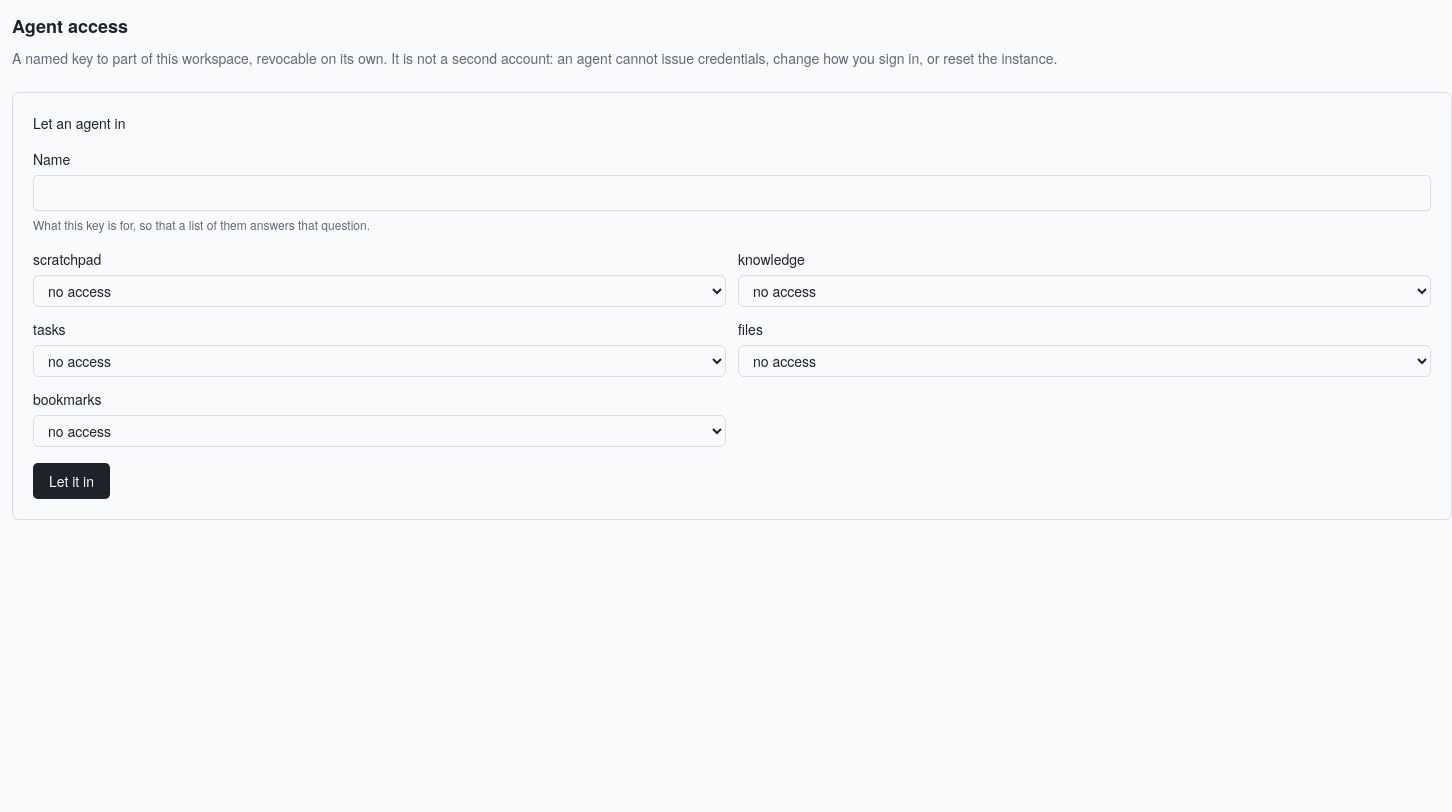
it: agent access › lets an agent in with a permission per application and shows the token once
Step 1. Type "the deploy agent" into the field labelled "Name" → (732, 193), box x1=33 y1=175 x2=1431 y2=211
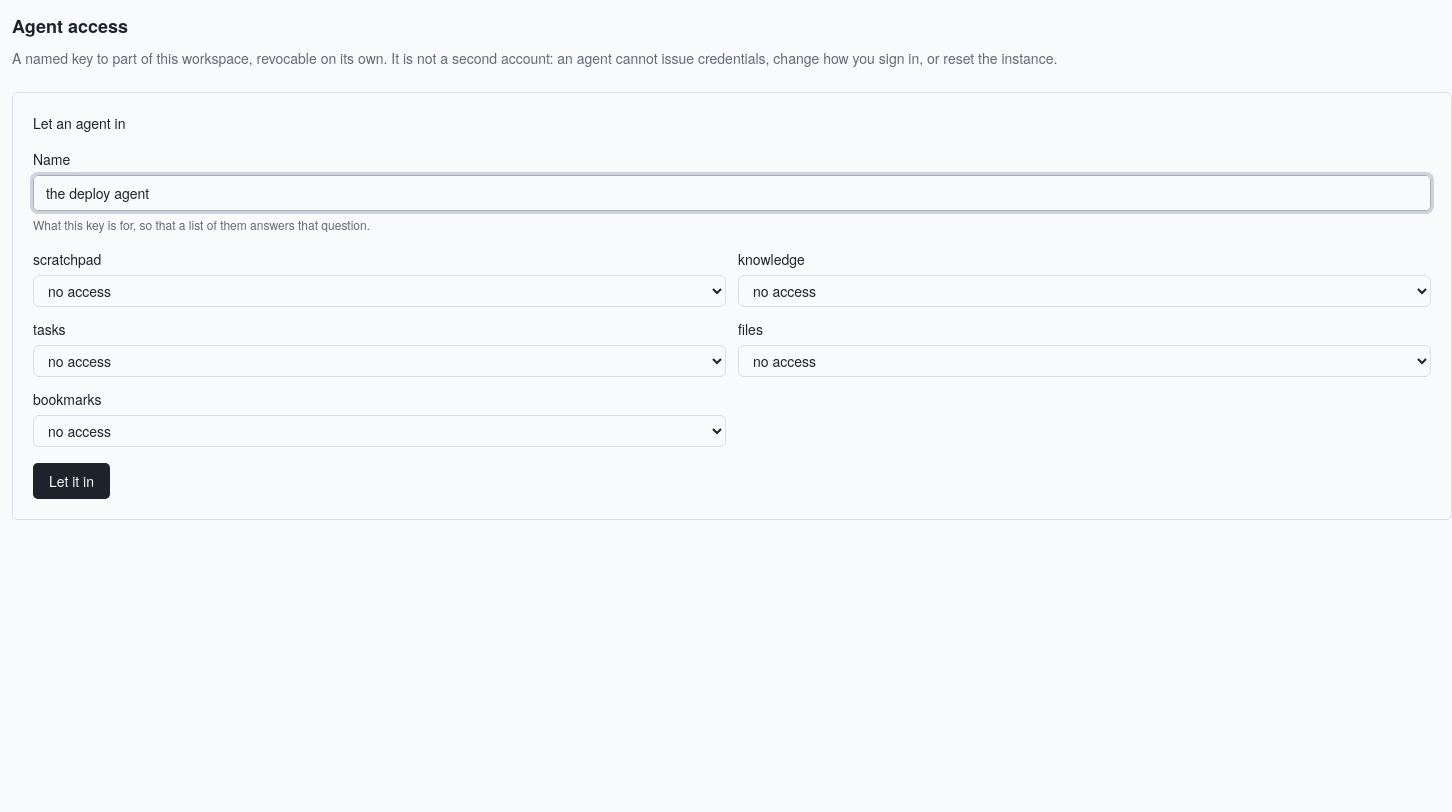
Step 2. Select "read" in the dropdown labelled "knowledge" → (1084, 291), box x1=738 y1=275 x2=1431 y2=307
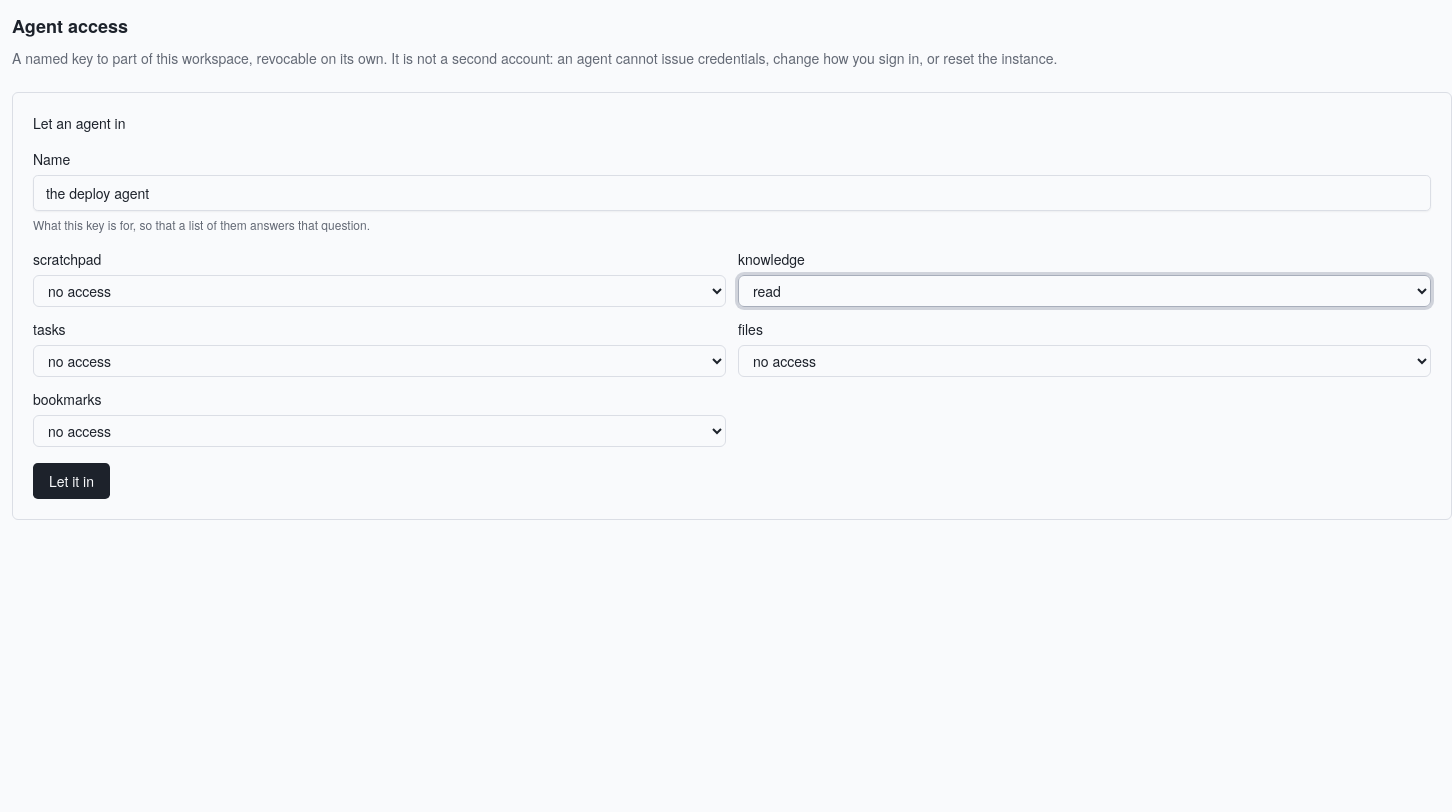
Step 3. Click the button "Let it in" → click(72, 481), box x1=33 y1=463 x2=110 y2=499
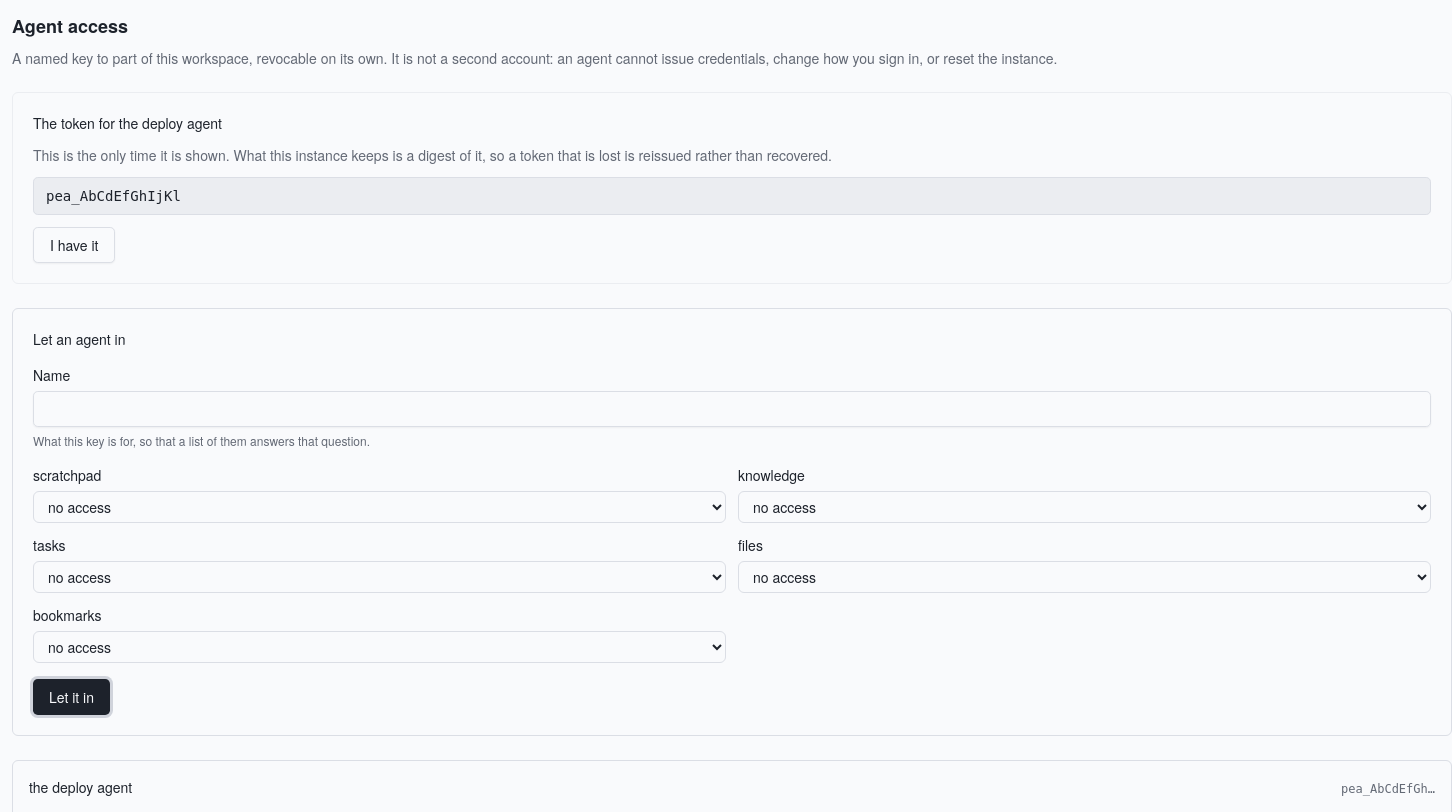
Expected: the text "pea_AbCdEfGhIjKl" is shown, x1=33 y1=177 x2=1431 y2=215
Expected: the text "only time it is shown" is shown, x1=33 y1=145 x2=832 y2=165
Step 4. Click the button "I have it" → click(74, 245), box x1=33 y1=227 x2=116 y2=263
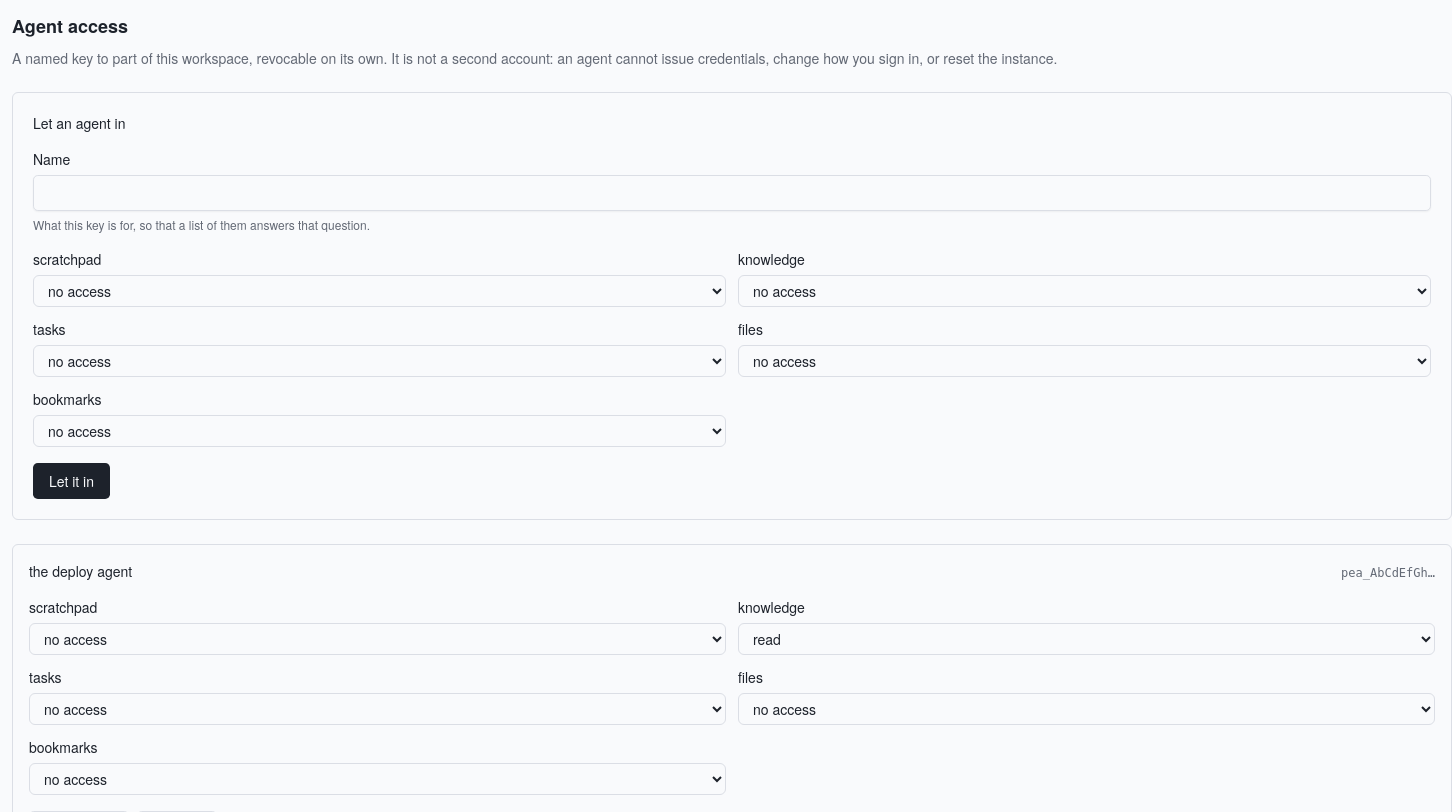
Expected: the text "pea_AbCdEfGhIjKl" is gone
